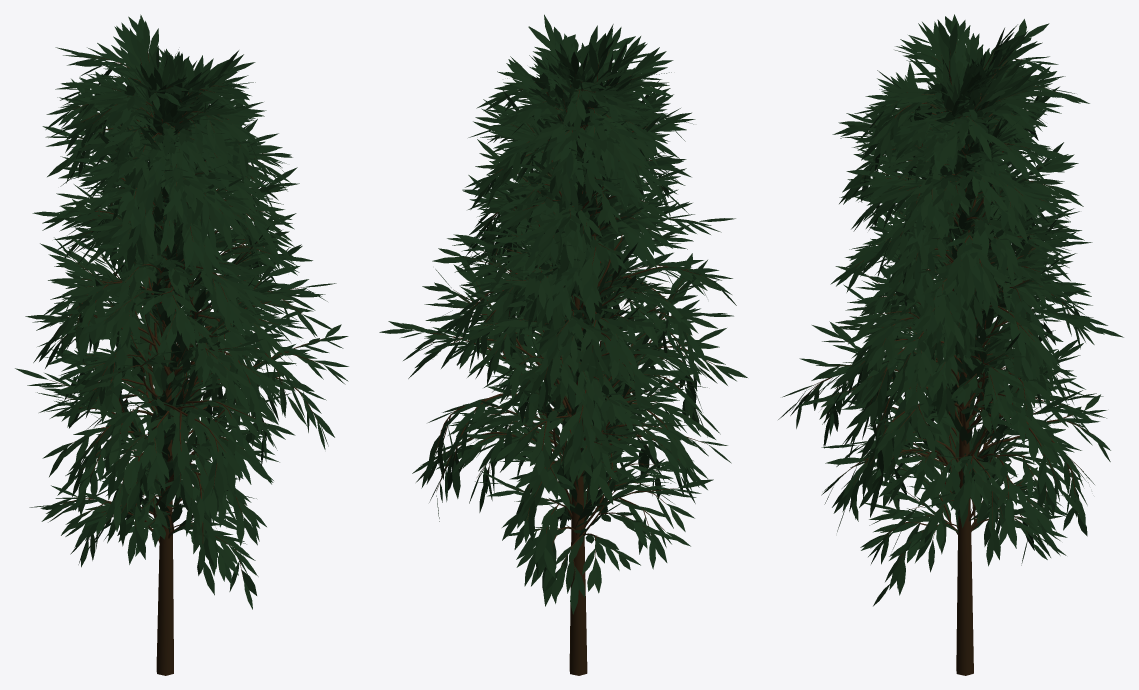
Rendered from LowPolyTree.fbx.
The picture shows the model from 3 angles, left to right: view 1: azimuth 30°, elevation 25°; view 2: azimuth 150°, elevation 25°; view 3: azimuth 270°, elevation 25°; orthographic projection.
Visible parts, largest first — view 1: leaves, tree; view 2: leaves, tree; view 3: leaves, tree.
Part boxes in pixels (x1,y1,x2,y2): leaves: [15, 14, 348, 609]; tree: [49, 52, 324, 675]; leaves: [379, 14, 747, 614]; tree: [414, 51, 714, 675]; leaves: [778, 14, 1123, 606]; tree: [799, 43, 1093, 675].
Bounding box in the file's own units: 363 × 717 × 351.
